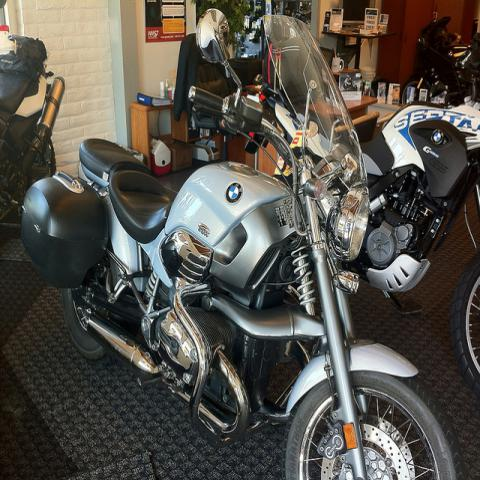motorcycle: (21, 9, 468, 474), (354, 103, 479, 392), (0, 33, 67, 242), (400, 37, 480, 106)
